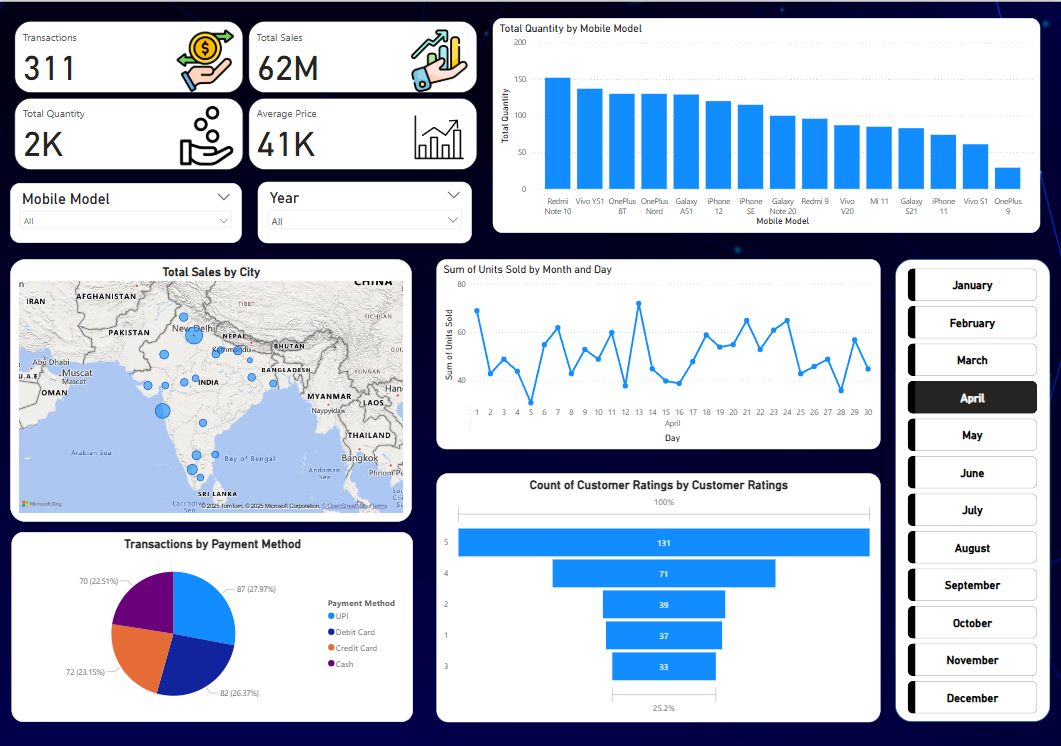

The page's visual inventory and layout, read from the dashboard file:
{"tool":"powerbi","page":{"name":"Page 1","canvas":[1700,1200],"ordinal":0},"visuals":[{"type":"shape","box":[1434,412,248,740],"z":0},{"type":"advancedSlicerVisual","fields":{"Values":["Smartphone_Sales_Data.date.Variation.Date Hierarchy.Month"]},"box":[1450,422,216,722],"z":1000},{"type":"cardVisual","fields":{"Data":["Smartphone_Sales_Data.Transactions","Smartphone_Sales_Data.Total Sales","Smartphone_Sales_Data.Total Quantity","Smartphone_Sales_Data.Average Price"]},"box":[20,26,750,248],"z":2000},{"type":"map","fields":{"Category":["Smartphone_Sales_Data.City"],"Size":["Smartphone_Sales_Data.Total Sales"]},"box":[18,412,642,420],"z":3000},{"type":"lineChart","fields":{"Y":["Sum(Smartphone_Sales_Data.Units Sold)"],"Category":["Smartphone_Sales_Data.date.Variation.Date Hierarchy.Month","Smartphone_Sales_Data.date.Variation.Date Hierarchy.Day"]},"box":[700,412,710,304],"z":4000},{"type":"columnChart","fields":{"Y":["Smartphone_Sales_Data.Total Quantity"],"Category":["Smartphone_Sales_Data.Mobile Model"]},"box":[790,26,876,344],"z":5000},{"type":"pieChart","fields":{"Category":["Smartphone_Sales_Data.Payment Method"],"Y":["Smartphone_Sales_Data.Transactions"]},"box":[20,848,642,304],"z":6000},{"type":"funnel","fields":{"Category":["Smartphone_Sales_Data.Customer Ratings"],"Y":["CountNonNull(Smartphone_Sales_Data.Customer Ratings)"]},"box":[700,754,710,398],"z":7000},{"type":"slicer","fields":{"Values":["Smartphone_Sales_Data.Mobile Model"]},"box":[18,290,370,96],"z":8000},{"type":"slicer","fields":{"Values":["Smartphone_Sales_Data.date.Variation.Date Hierarchy.Year"]},"box":[414,288,342,98],"z":9000}]}

Visuals, with their boxes in screenshot pixels (x1, y1, x2, y2), scaled from the page's 1700x1200 canvas onto the 1061x746 screenshot:
shape: (895, 256, 1050, 716)
advancedSlicerVisual - Smartphone_Sales_Data.date.Variation.Date Hierarchy.Month: (905, 262, 1040, 711)
cardVisual - Smartphone_Sales_Data.Transactions x Smartphone_Sales_Data.Total Sales: (12, 16, 481, 170)
map - Smartphone_Sales_Data.City x Smartphone_Sales_Data.Total Sales: (11, 256, 412, 517)
lineChart - Sum(Smartphone_Sales_Data.Units Sold) x Smartphone_Sales_Data.date.Variation.Date Hierarchy.Month: (437, 256, 880, 445)
columnChart - Smartphone_Sales_Data.Total Quantity x Smartphone_Sales_Data.Mobile Model: (493, 16, 1040, 230)
pieChart - Smartphone_Sales_Data.Payment Method x Smartphone_Sales_Data.Transactions: (12, 527, 413, 716)
funnel - Smartphone_Sales_Data.Customer Ratings x CountNonNull(Smartphone_Sales_Data.Customer Ratings): (437, 469, 880, 716)
slicer - Smartphone_Sales_Data.Mobile Model: (11, 180, 242, 240)
slicer - Smartphone_Sales_Data.date.Variation.Date Hierarchy.Year: (258, 179, 472, 240)
